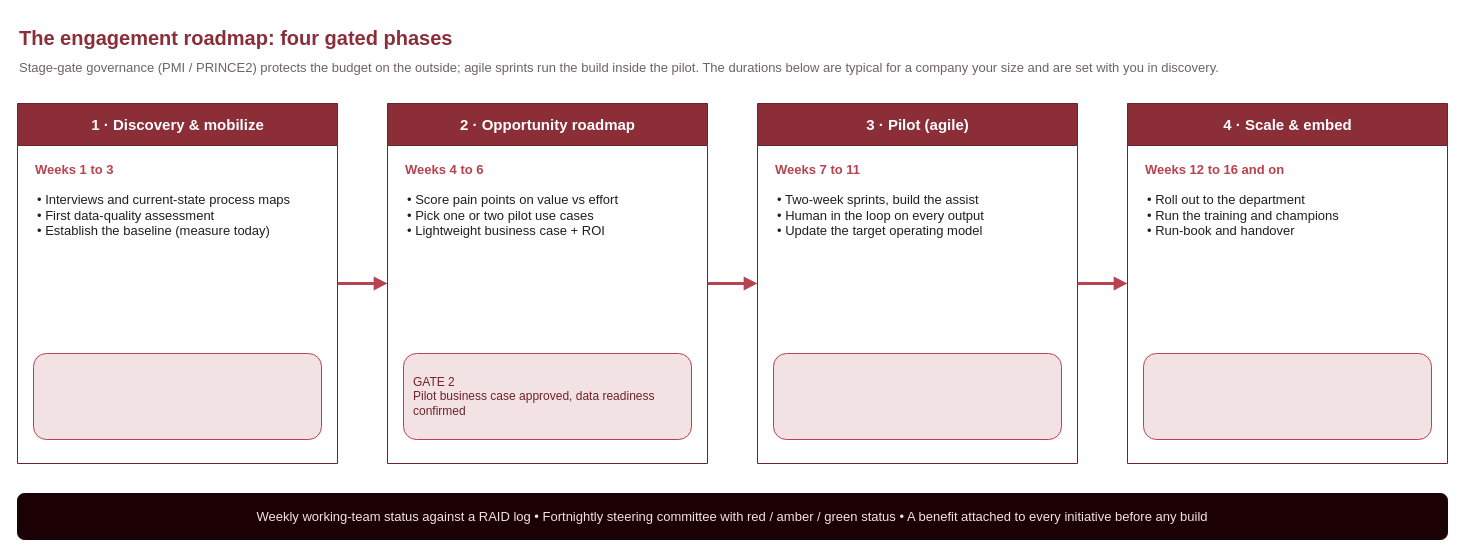
This 1465x557 diagram has some shape labels left out. Each missing label, with the centre of its shape:
"GATE 1 Baseline approved, problem statements agreed by the sponsor" belongs at (177,396).
"GATE 3 Pilot KPIs met, user acceptance signed off" belongs at (917,396).
"GATE 4 Handover complete, run-book accepted by your team" belongs at (1287,396).
